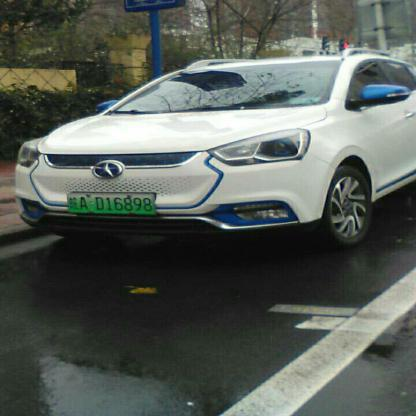lp: (67, 191, 155, 215)
